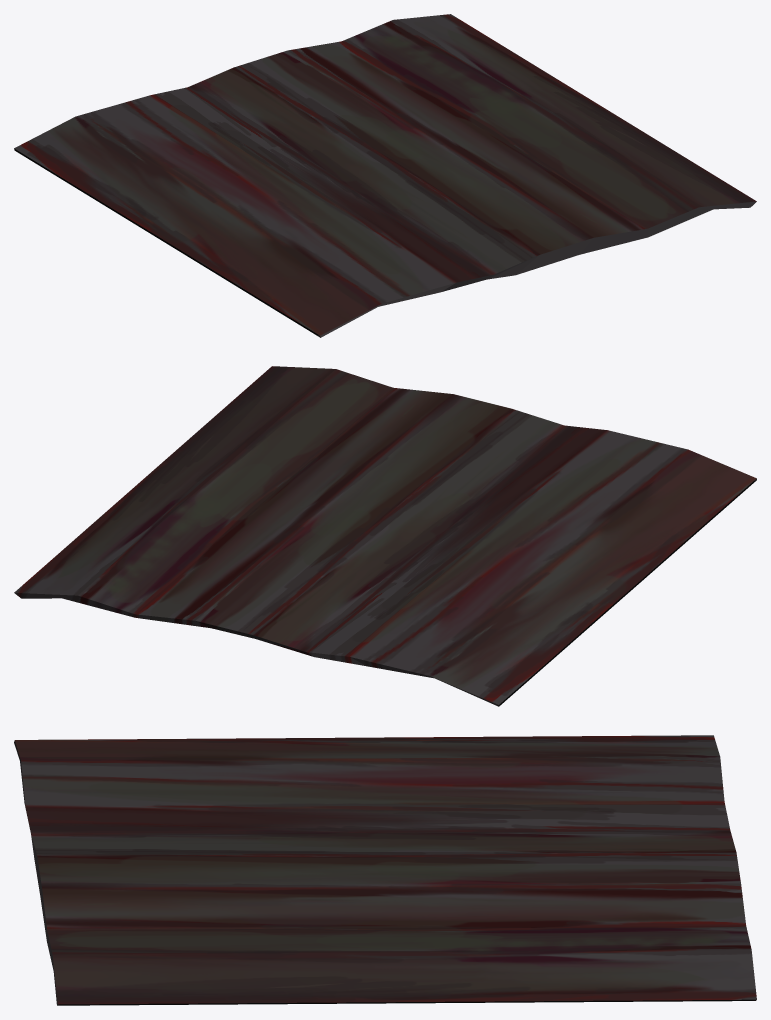
File: Metal_Crate_002.fbx
The picture shows the model from 3 angles, top to bottom: view 1: azimuth 30°, elevation 25°; view 2: azimuth 150°, elevation 25°; view 3: azimuth 270°, elevation 25°; orthographic projection. The views are drawn at different scales.
Visible parts, largest first — view 1: Grate01; view 2: Grate01; view 3: Grate01.
Boxes of the visible parts, x1=… form: Grate01: x1=14, y1=14, x2=756, y2=337; Grate01: x1=14, y1=366, x2=756, y2=706; Grate01: x1=14, y1=735, x2=756, y2=1005.
Bounding box in the file's own units: 1351 × 88.42 × 1438.
1 material, 1 textured.
